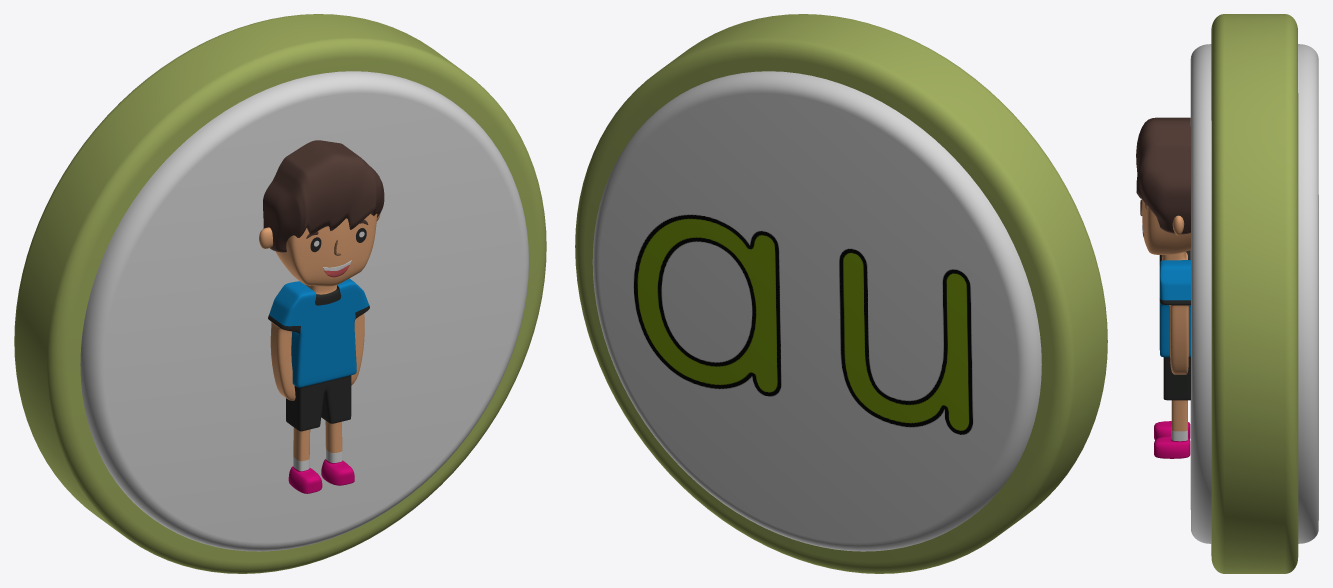
File: boy.gltf
3 renders of one model, left to right at view 1: azimuth 30°, elevation 25°; view 2: azimuth 150°, elevation 25°; view 3: azimuth 270°, elevation 25°, orthographic. The views are drawn at different scales.
Parts seen in each view (by area): view 1: Cylinder_2, Cylinder.001, Cube.000, Cube.002, Cube; view 2: Cylinder_2, Cylinder.001; view 3: Cylinder.001, Cylinder_2, Cube.000, Cube.002, Cube.
Part boxes in pixels (bbox=[...]): Cylinder_2: bbox=[80, 71, 528, 551]; Cylinder.001: bbox=[14, 14, 546, 573]; Cube.000: bbox=[268, 278, 369, 493]; Cube.002: bbox=[263, 140, 384, 252]; Cube: bbox=[259, 213, 380, 294]; Cylinder_2: bbox=[592, 71, 1041, 551]; Cylinder.001: bbox=[575, 14, 1107, 573]; Cylinder.001: bbox=[1211, 14, 1298, 573]; Cylinder_2: bbox=[1190, 44, 1318, 543]; Cube.000: bbox=[1154, 250, 1190, 458]; Cube.002: bbox=[1136, 117, 1190, 234]; Cube: bbox=[1142, 200, 1190, 260].
Size of the model in its own units: 2.56 by 2.56 by 0.8346.
14 materials, 1 textured.
